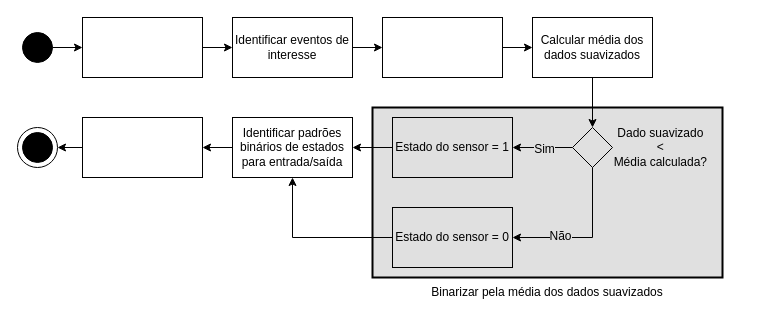
Image size: 770x325. Some labels were removed from this diagram. Each missing label, with the box of its shape:
Calcular fluxo de indivíduos em um evento de interesse: (82, 116, 202, 178)
Coletar dados para eventos: (82, 16, 202, 78)
Suavizar dados dos eventos de interesse: (382, 16, 502, 78)
